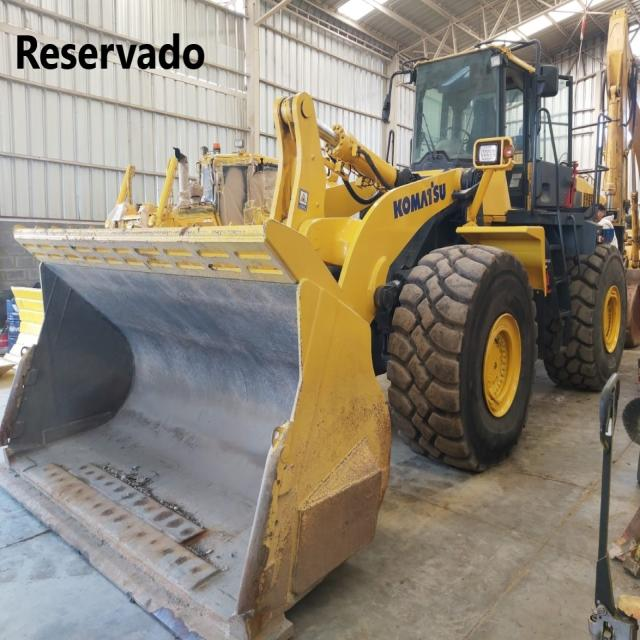bull_dozer/loader/grader: (4, 52, 624, 626)
